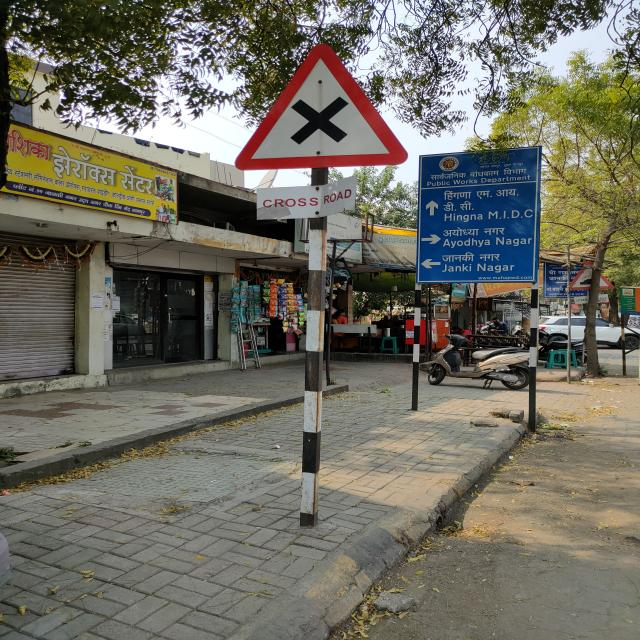CROSS_ROAD: (234, 43, 408, 174)
